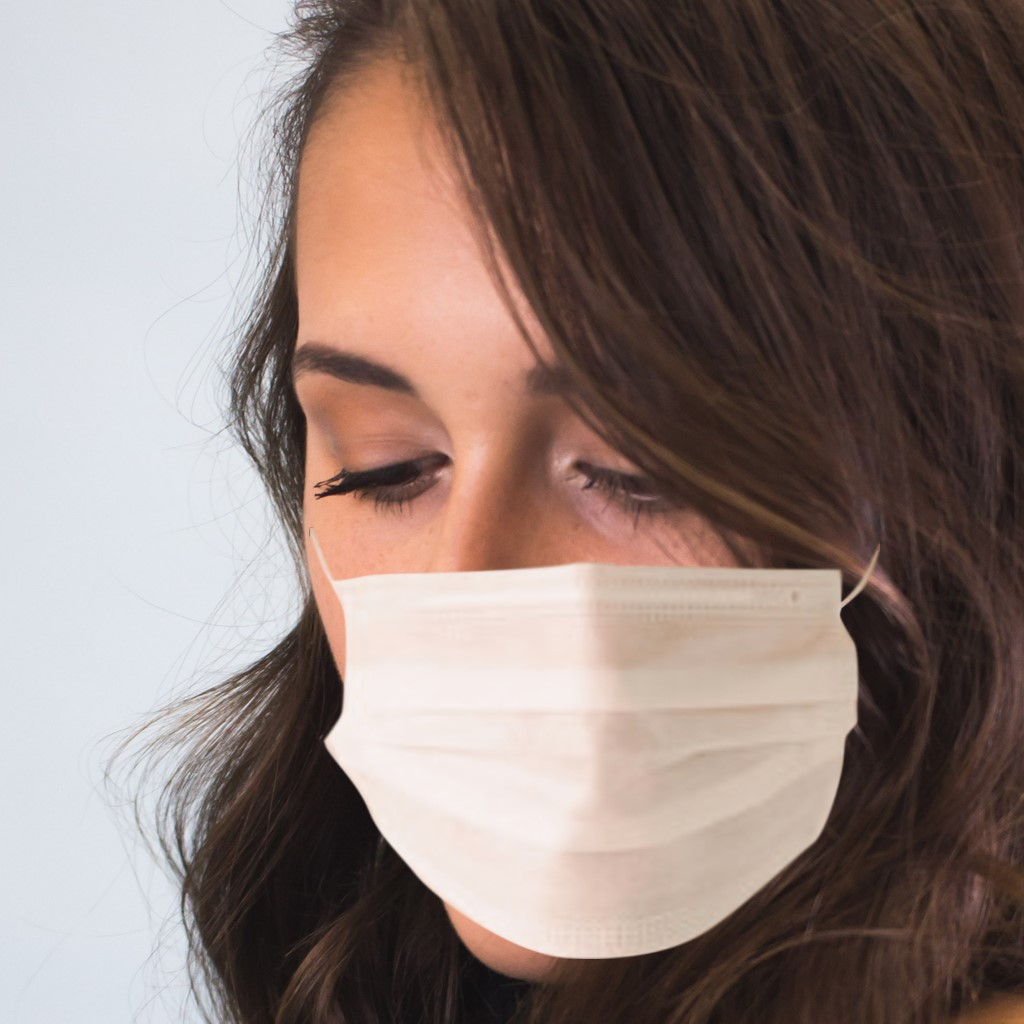con_mascara: (283, 62, 899, 970)
